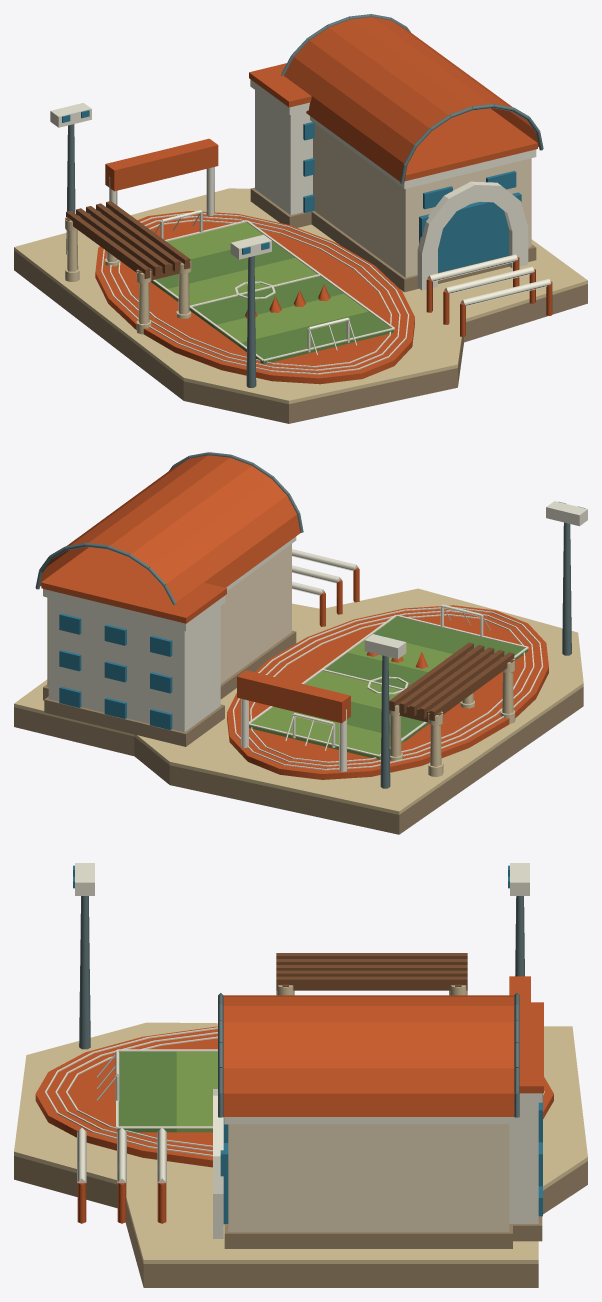
The model's file is training-center-lv3.glb.
3 views of the same model, one above another, from view 1: azimuth 30°, elevation 25°; view 2: azimuth 150°, elevation 25°; view 3: azimuth 270°, elevation 25° (orthographic). The views are drawn at different scales.
Visible parts, largest first — view 1: gym_barrel_roof_orange, foundation_sand, running_track_orange, foundation_stoneDark, training_hall_cream, pitch_grass, pitch_grassLight, performance_block_white, training_hall_roof_orange, coaching_shelter_wood, gym_front_arch_white, gym_front_glass (+17 smaller); view 2: gym_barrel_roof_orange, foundation_sand, running_track_orange, performance_block_white, foundation_stoneDark, training_hall_cream, performance_block_roof_orange, pitch_grassLight, pitch_grass, coaching_shelter_wood, running_lanes_white, performance_block_windows_glass (+13 smaller); view 3: gym_barrel_roof_orange, training_hall_cream, foundation_sand, foundation_stoneDark, running_track_orange, coaching_shelter_wood, training_hall_stoneDark, pitch_grass, performance_block_white, pitch_grassLight, lighting_iron, running_lanes_white (+11 smaller).
Boxes of the visible parts, x1,y1,x2,y2 form: gym_barrel_roof_orange: [284, 17, 538, 181]; foundation_sand: [14, 188, 587, 404]; running_track_orange: [95, 211, 414, 384]; foundation_stoneDark: [14, 251, 587, 423]; training_hall_cream: [313, 124, 531, 277]; pitch_grass: [151, 241, 393, 364]; pitch_grassLight: [165, 222, 368, 346]; performance_block_white: [250, 79, 312, 214]; training_hall_roof_orange: [404, 108, 537, 181]; coaching_shelter_wood: [65, 201, 190, 283]; gym_front_arch_white: [417, 181, 528, 290]; gym_front_glass: [419, 192, 521, 272]; gym_barrel_roof_orange: [40, 455, 300, 602]; foundation_sand: [14, 588, 583, 814]; running_track_orange: [227, 605, 548, 779]; performance_block_white: [44, 589, 225, 732]; foundation_stoneDark: [14, 687, 583, 834]; training_hall_cream: [47, 544, 291, 686]; performance_block_roof_orange: [42, 553, 226, 623]; pitch_grassLight: [249, 640, 452, 759]; pitch_grass: [279, 616, 527, 741]; coaching_shelter_wood: [389, 642, 514, 725]; running_lanes_white: [232, 607, 543, 770]; performance_block_windows_glass: [59, 613, 172, 729]; gym_barrel_roof_orange: [223, 995, 514, 1116]; training_hall_cream: [228, 1124, 509, 1231]; foundation_sand: [14, 1022, 587, 1263]; foundation_stoneDark: [14, 1156, 587, 1287]; running_track_orange: [35, 1026, 553, 1167]; coaching_shelter_wood: [276, 953, 467, 990]; training_hall_stoneDark: [224, 1224, 512, 1248]; pitch_grass: [117, 1051, 176, 1132]; performance_block_white: [509, 1093, 542, 1223]; pitch_grassLight: [176, 1051, 217, 1132]; lighting_iron: [79, 896, 524, 1049]; running_lanes_white: [45, 1027, 544, 1156].
Size of the model in its own units: 0.9785 by 0.451 by 1.
